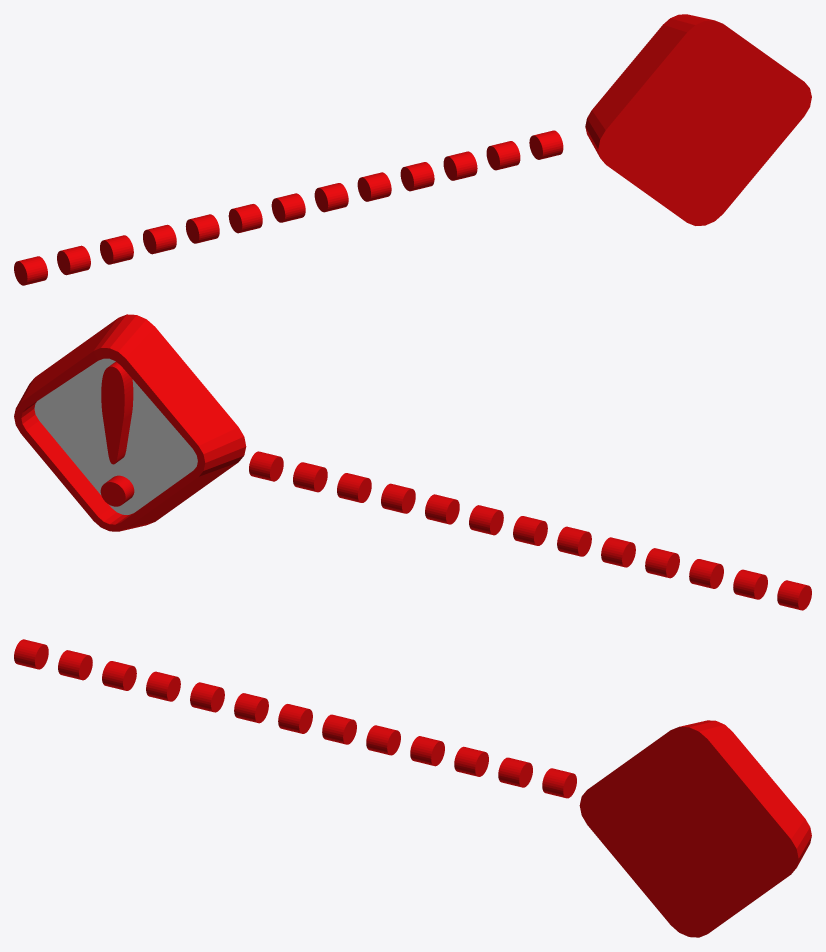
File: alarm.gltf
3 renders of one model, top to bottom at view 1: azimuth 30°, elevation 25°; view 2: azimuth 150°, elevation 25°; view 3: azimuth 330°, elevation 25°, orthographic. The views are drawn at different scales.
Visible parts, largest first — view 1: alarm; view 2: alarm; view 3: alarm.
Boxes of the visible parts, x1,y1,x2,y2 form: alarm: (14, 14, 811, 285); alarm: (14, 314, 811, 610); alarm: (14, 639, 811, 937).
Size of the model in its own units: 7.92 by 2 by 0.47.
